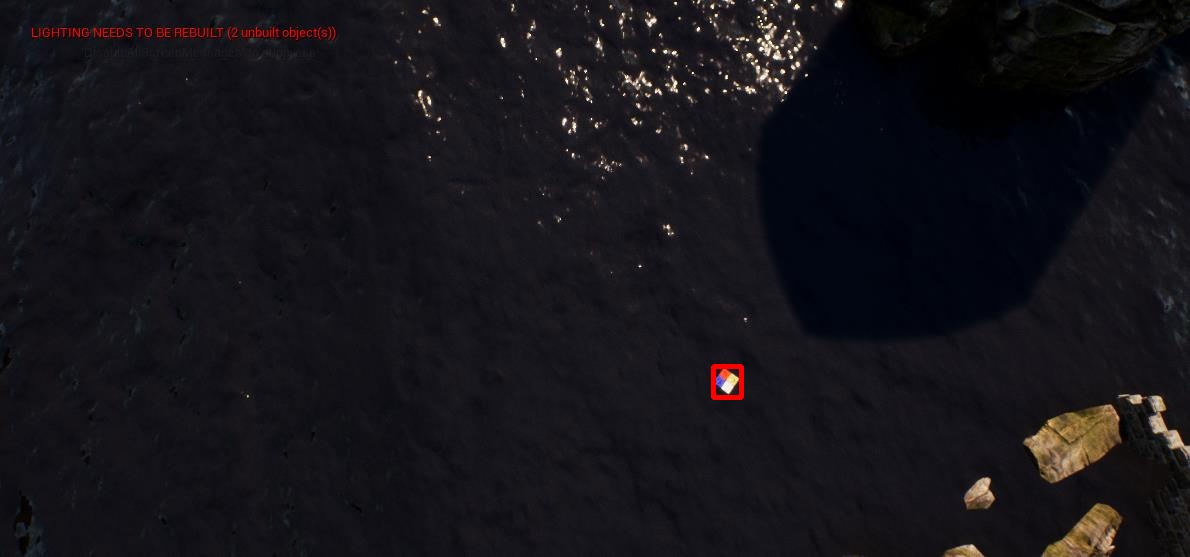nfpa: (713, 366, 741, 397)
